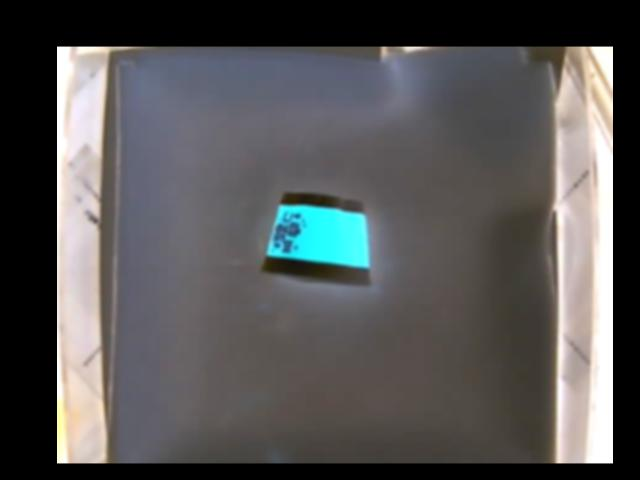Cup: (262, 191, 372, 289)
